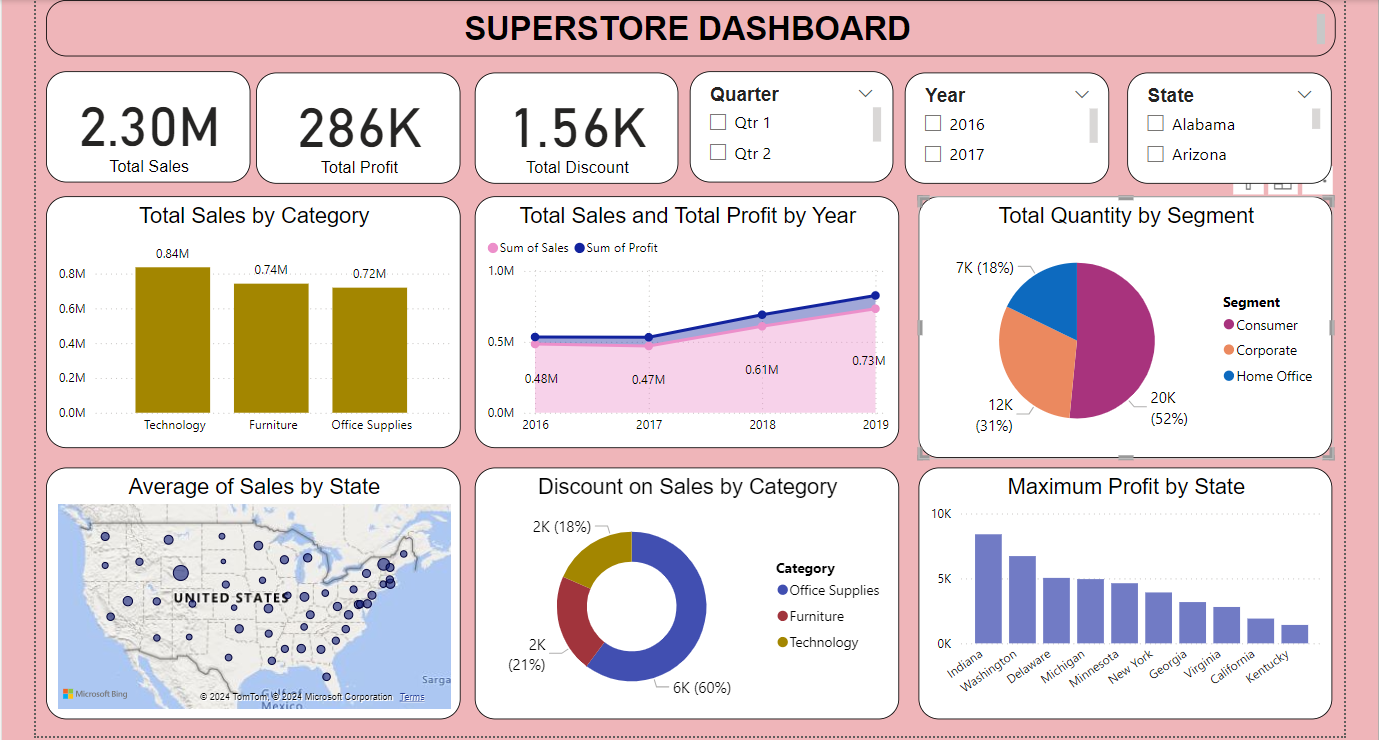

What the dashboard file says about the page in this screenshot:
{"tool":"powerbi","page":{"name":"Dashboard","canvas":[1280,720],"ordinal":0},"visuals":[{"type":"textbox","box":[9.6,0,1261.4,54.8],"z":0},{"type":"card","fields":{"Values":["Sum(Orders.Sales)"]},"box":[9.6,69.9,200,109],"z":1000},{"type":"card","fields":{"Values":["Sum(Orders.Profit)"]},"box":[215.4,71.4,200.3,108.4],"z":2000},{"type":"card","fields":{"Values":["Sum(Orders.Discount)"]},"box":[429.5,71.4,199,108.4],"z":3000},{"type":"slicer","fields":{"Values":["Orders.Order Date.Variation.Date Hierarchy.Quarter"]},"box":[639.5,70,199,108.4],"z":4000},{"type":"slicer","fields":{"Values":["Orders.Order Date.Variation.Date Hierarchy.Year"]},"box":[849.4,71.4,200.3,108.4],"z":5000},{"type":"clusteredColumnChart","title":"Total Sales by Category","fields":{"Category":["Orders.Category"],"Y":["Sum(Orders.Sales)"]},"box":[9.6,191.9,405.8,246.8],"z":6000},{"type":"stackedAreaChart","title":"Total Sales and Total Profit by Year","fields":{"Category":["Orders.Order Date.Variation.Date Hierarchy.Year"],"Y":["Sum(Orders.Sales)","Sum(Orders.Profit)"]},"box":[429.1,191.9,415,246.8],"z":7000},{"type":"pieChart","title":"Total Quantity by Segment","fields":{"Y":["Sum(Orders.Quantity)"],"Category":["Orders.Segment"]},"box":[863.8,191.9,405,256.4],"z":8000},{"type":"map","title":"Average of Sales by State","fields":{"Category":["Orders.State"],"Size":["Avg(Orders.Sales)"]},"box":[9.6,457.9,405.8,246],"z":9000},{"type":"columnChart","title":"Maximum Profit by State","fields":{"Category":["Orders.State"],"Y":["Max(Orders.Profit)"]},"box":[863.8,457.9,405,246],"z":10000},{"type":"donutChart","title":"Discount on Sales by Category","fields":{"Category":["Orders.Category"],"Y":["CountNonNull(Orders.Discount)"]},"box":[429.1,457.9,415,246],"z":11000},{"type":"slicer","fields":{"Values":["Orders.State"]},"box":[1067.6,71.4,200.3,108.4],"z":12000}]}

Visuals, with their boxes in screenshot pixels (x1, y1, x2, y2):
textbox: 49/0/1327/56
card - Sum(Orders.Sales): 49/71/252/181
card - Sum(Orders.Profit): 258/72/461/182
card - Sum(Orders.Discount): 475/72/676/182
slicer - Orders.Order Date.Variation.Date Hierarchy.Quarter: 687/71/889/181
slicer - Orders.Order Date.Variation.Date Hierarchy.Year: 900/72/1103/182
"Total Sales by Category" clusteredColumnChart: 49/194/460/445
"Total Sales and Total Profit by Year" stackedAreaChart: 474/194/895/445
"Total Quantity by Segment" pieChart: 915/194/1325/454
"Average of Sales by State" map: 49/464/460/713
"Maximum Profit by State" columnChart: 915/464/1325/713
"Discount on Sales by Category" donutChart: 474/464/895/713
slicer - Orders.State: 1121/72/1324/182
